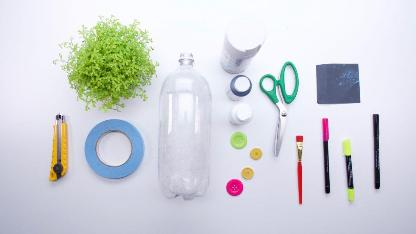Plastic Bottle: (157, 50, 215, 206)
